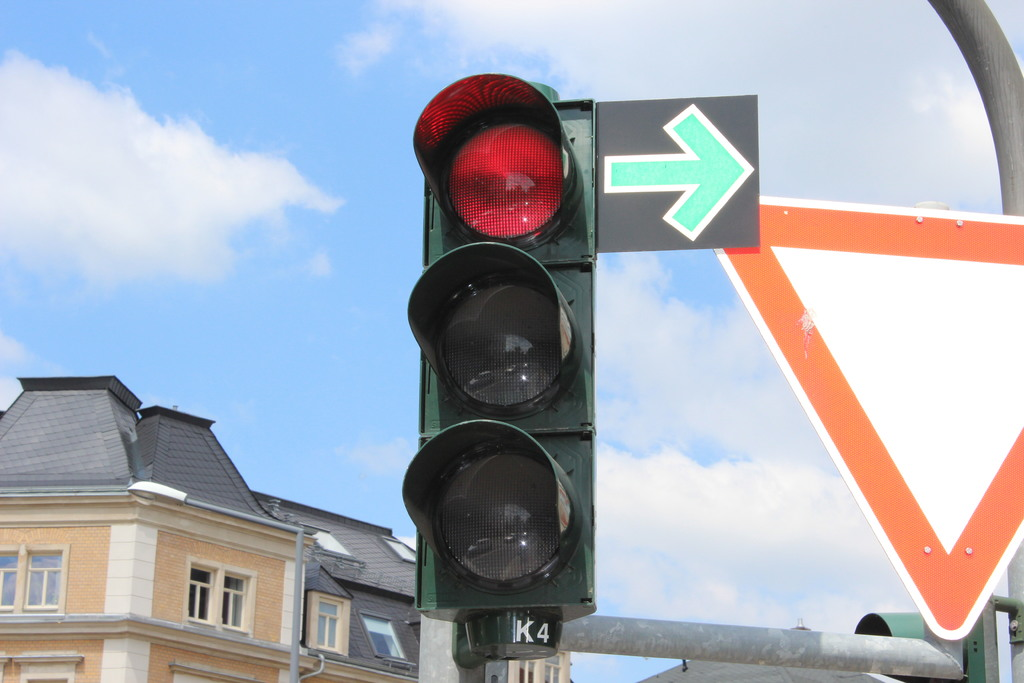red_light: (428, 90, 581, 600)
